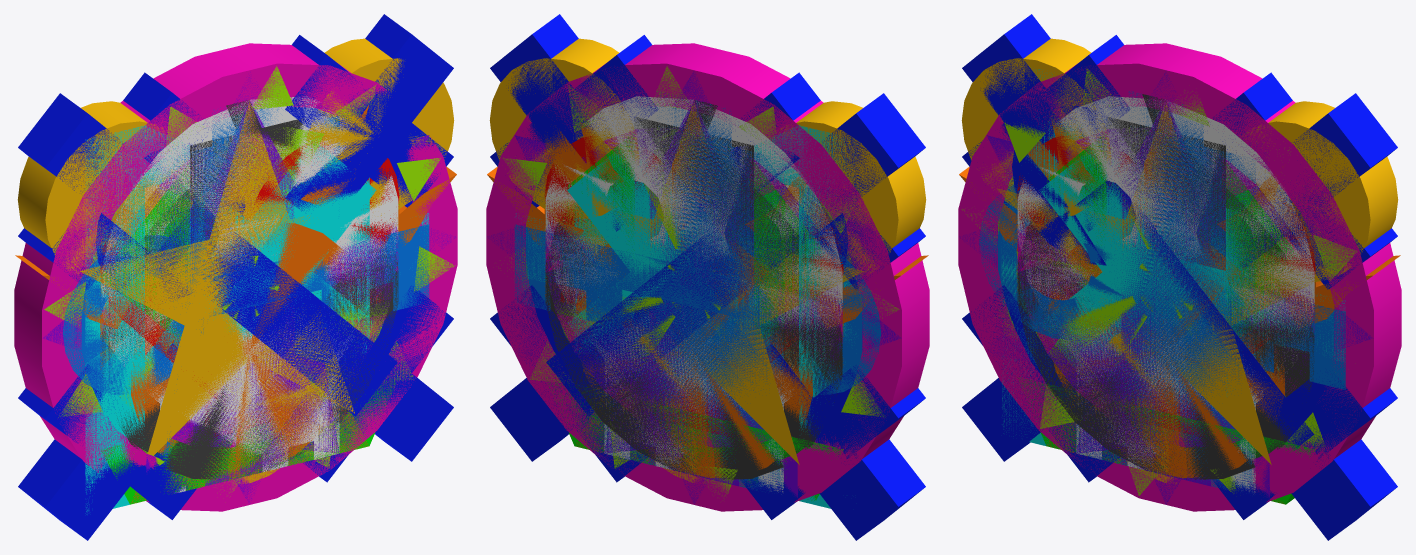
File: setA.fbx
3 renders of one model, left to right at view 1: azimuth 30°, elevation 25°; view 2: azimuth 150°, elevation 25°; view 3: azimuth 330°, elevation 25°, orthographic.
Visible parts, largest first — view 1: powerup_18, powerup_07, powerup_04, powerup_01, powerup_13, powerup_05, powerup_19, powerup_03, powerup_15, powerup_06, powerup_08, powerup_10 (+7 smaller); view 2: powerup_07, powerup_18, powerup_17, powerup_03, powerup_04, powerup_13, powerup_15, powerup_05, powerup_06, powerup_01, powerup_14, powerup_11 (+7 smaller); view 3: powerup_07, powerup_18, powerup_17, powerup_04, powerup_03, powerup_13, powerup_15, powerup_14, powerup_10, powerup_01, powerup_06, powerup_11 (+8 smaller).
Boxes of the visible parts, x1,y1,x2,y2 form: powerup_18: (18, 14, 453, 540); powerup_07: (14, 43, 457, 511); powerup_04: (101, 96, 398, 492); powerup_01: (79, 100, 410, 455); powerup_13: (17, 38, 454, 483); powerup_05: (96, 143, 397, 416); powerup_19: (85, 125, 429, 514); powerup_03: (101, 100, 398, 479); powerup_15: (15, 104, 456, 478); powerup_06: (62, 224, 429, 394); powerup_08: (44, 66, 455, 496); powerup_10: (124, 145, 376, 402); powerup_07: (486, 43, 929, 511); powerup_18: (490, 14, 925, 540); powerup_17: (604, 91, 783, 493); powerup_03: (545, 100, 842, 479); powerup_04: (545, 96, 842, 492); powerup_13: (489, 38, 926, 483); powerup_15: (487, 112, 928, 478); powerup_05: (546, 146, 848, 416); powerup_06: (514, 224, 881, 395); powerup_01: (524, 101, 864, 464); powerup_14: (487, 71, 901, 504); powerup_11: (546, 134, 843, 500); powerup_07: (958, 43, 1401, 511); powerup_18: (962, 14, 1397, 540); powerup_17: (1076, 91, 1255, 493); powerup_04: (1017, 96, 1314, 492); powerup_03: (1017, 94, 1314, 479); powerup_13: (961, 38, 1398, 483); powerup_15: (959, 112, 1400, 478); powerup_14: (959, 71, 1373, 504); powerup_10: (1039, 150, 1281, 378); powerup_01: (996, 103, 1336, 464); powerup_06: (979, 185, 1345, 389); powerup_11: (1017, 134, 1315, 504).
Bounding box in the file's own units: 0.694 × 0.694 × 0.08.
